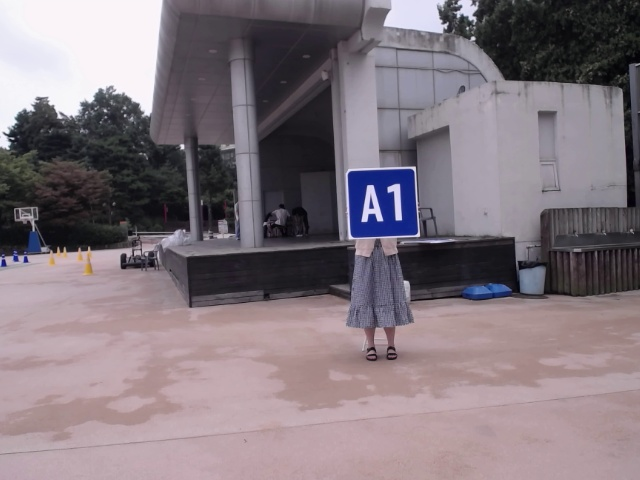delivery_a1: (346, 167, 420, 240)
